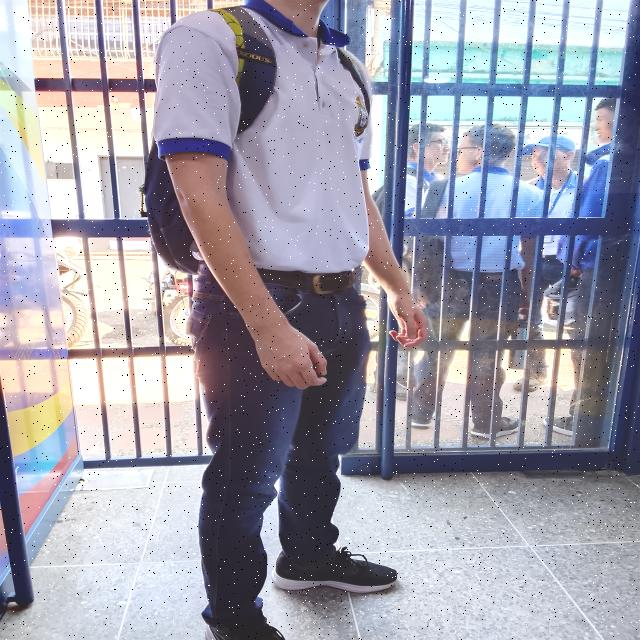carnet: (540, 224, 554, 243)
pantalon_oscuro: (184, 272, 372, 627)
uniforme_superior: (151, 0, 374, 273), (436, 166, 545, 272)
